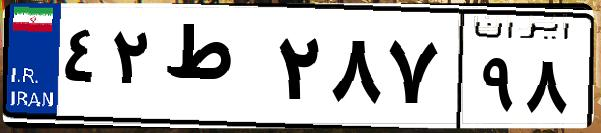2: (270, 28, 330, 110), (110, 28, 158, 98)
4: (57, 26, 110, 100)
7: (385, 28, 445, 110)
8: (330, 28, 385, 110), (525, 38, 570, 115)
9: (475, 38, 525, 113)
ط: (158, 20, 270, 120)
